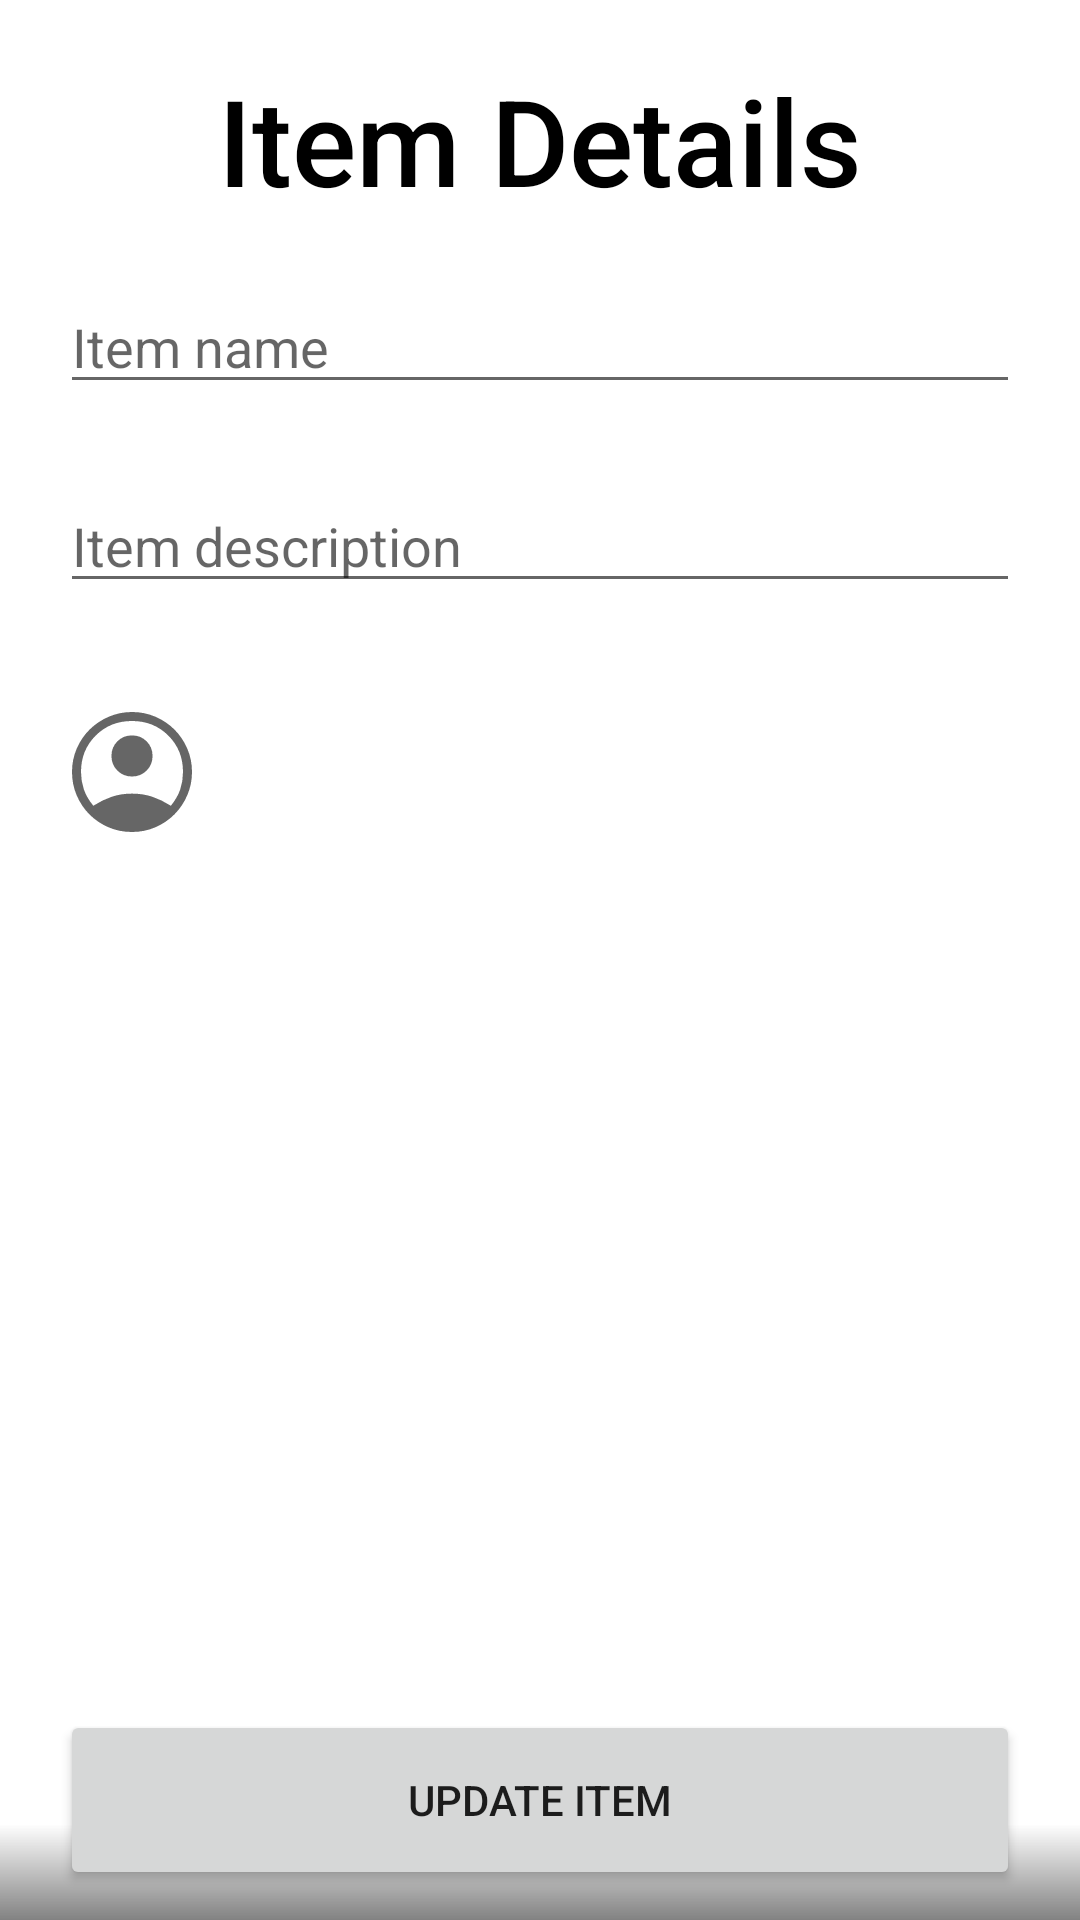

Where icons sit on this 1080px x 1920px app screen, as (x1, y1, x2, y2):
profile: (72, 712, 192, 832)
